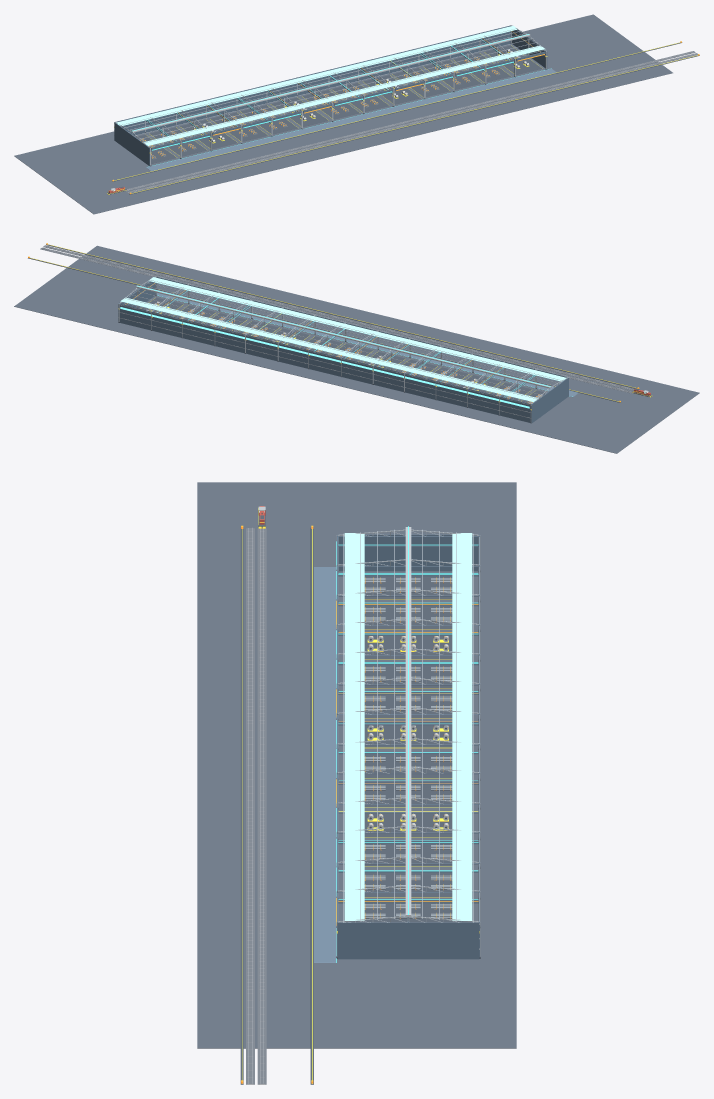
The model's file is rebar-core-v4-medium.glb.
3 renders of one model, top to bottom at view 1: azimuth 30°, elevation 25°; view 2: azimuth 150°, elevation 25°; view 3: azimuth 270°, elevation 25°, orthographic. The views are drawn at different scales.
Visible parts, largest first — view 1: rebar-core-v4-high.glb-v5_rebar_apron, rebar-core-v4-high.glb-v5_heavy_gunmetal, rebar-core-v4-high.glb-v5_wh_cladding, rebar-core-v4-high.glb-v5_wh_skylight, rebar-core-v4-high.glb-v5_wh_truss, rebar-core-v4-high.glb-v5_wh_column, rebar-core-v4-high.glb-v5_rebar_ballast, rebar-core-v4-high.glb-v5_steel_rail, rebar-core-v4-high.glb-v5_crane_yellow, rebar-core-v4-high.glb-v5_tech_cyan, rebar-core-v4-high.glb-v5_wh_trim, rebar-core-v4-high.glb-v5_rebar_bundle (+2 smaller); view 2: rebar-core-v4-high.glb-v5_rebar_apron, rebar-core-v4-high.glb-v5_wh_cladding, rebar-core-v4-high.glb-v5_wh_skylight, rebar-core-v4-high.glb-v5_wh_truss, rebar-core-v4-high.glb-v5_heavy_gunmetal, rebar-core-v4-high.glb-v5_rebar_ballast, rebar-core-v4-high.glb-v5_wh_trim, rebar-core-v4-high.glb-v5_wh_column, rebar-core-v4-high.glb-v5_steel_rail, rebar-core-v4-high.glb-v5_tech_cyan, rebar-core-v4-high.glb-v5_crane_yellow, rebar-core-v4-high.glb-v5_rebar_bundle (+1 smaller); view 3: rebar-core-v4-high.glb-v5_rebar_apron, rebar-core-v4-high.glb-v5_heavy_gunmetal, rebar-core-v4-high.glb-v5_wh_skylight, rebar-core-v4-high.glb-v5_wh_column, rebar-core-v4-high.glb-v5_rebar_ballast, rebar-core-v4-high.glb-v5_wh_cladding, rebar-core-v4-high.glb-v5_wh_truss, rebar-core-v4-high.glb-v5_rebar_bundle, rebar-core-v4-high.glb-v5_wh_trim, rebar-core-v4-high.glb-v5_crane_yellow, rebar-core-v4-high.glb-v5_tech_cyan, rebar-core-v4-high.glb-v5_steel_rail (+3 smaller).
Boxes of the visible parts, <box> form: rebar-core-v4-high.glb-v5_rebar_apron: <box>14,14,672,214</box>; rebar-core-v4-high.glb-v5_heavy_gunmetal: <box>107,42,699,194</box>; rebar-core-v4-high.glb-v5_wh_cladding: <box>114,25,547,166</box>; rebar-core-v4-high.glb-v5_wh_skylight: <box>116,25,544,145</box>; rebar-core-v4-high.glb-v5_wh_truss: <box>115,25,546,165</box>; rebar-core-v4-high.glb-v5_wh_column: <box>127,30,556,171</box>; rebar-core-v4-high.glb-v5_rebar_ballast: <box>125,51,697,193</box>; rebar-core-v4-high.glb-v5_steel_rail: <box>125,51,697,192</box>; rebar-core-v4-high.glb-v5_crane_yellow: <box>107,42,697,194</box>; rebar-core-v4-high.glb-v5_tech_cyan: <box>132,34,551,166</box>; rebar-core-v4-high.glb-v5_wh_trim: <box>123,34,530,132</box>; rebar-core-v4-high.glb-v5_rebar_bundle: <box>140,56,500,159</box>; rebar-core-v4-high.glb-v5_rebar_apron: <box>14,245,699,453</box>; rebar-core-v4-high.glb-v5_wh_cladding: <box>118,277,568,422</box>; rebar-core-v4-high.glb-v5_wh_skylight: <box>120,277,566,408</box>; rebar-core-v4-high.glb-v5_wh_truss: <box>118,276,568,422</box>; rebar-core-v4-high.glb-v5_heavy_gunmetal: <box>28,244,651,423</box>; rebar-core-v4-high.glb-v5_rebar_ballast: <box>40,245,634,393</box>; rebar-core-v4-high.glb-v5_wh_trim: <box>118,285,550,418</box>; rebar-core-v4-high.glb-v5_wh_column: <box>120,281,578,401</box>; rebar-core-v4-high.glb-v5_steel_rail: <box>41,245,633,393</box>; rebar-core-v4-high.glb-v5_tech_cyan: <box>137,285,572,397</box>; rebar-core-v4-high.glb-v5_crane_yellow: <box>30,244,651,410</box>; rebar-core-v4-high.glb-v5_rebar_bundle: <box>180,309,541,403</box>; rebar-core-v4-high.glb-v5_rebar_apron: <box>197,482,516,1048</box>; rebar-core-v4-high.glb-v5_heavy_gunmetal: <box>240,509,480,1084</box>; rebar-core-v4-high.glb-v5_wh_skylight: <box>344,533,472,920</box>; rebar-core-v4-high.glb-v5_wh_column: <box>314,535,479,962</box>; rebar-core-v4-high.glb-v5_rebar_ballast: <box>246,528,266,1084</box>; rebar-core-v4-high.glb-v5_wh_cladding: <box>337,534,479,959</box>; rebar-core-v4-high.glb-v5_wh_truss: <box>336,529,480,956</box>; rebar-core-v4-high.glb-v5_rebar_bundle: <box>364,578,452,918</box>; rebar-core-v4-high.glb-v5_wh_trim: <box>405,527,479,949</box>; rebar-core-v4-high.glb-v5_crane_yellow: <box>242,508,479,1083</box>; rebar-core-v4-high.glb-v5_tech_cyan: <box>336,526,478,962</box>; rebar-core-v4-high.glb-v5_steel_rail: <box>248,528,263,1083</box>.
Size of the model in its own units: 610 by 21.48 by 137.
